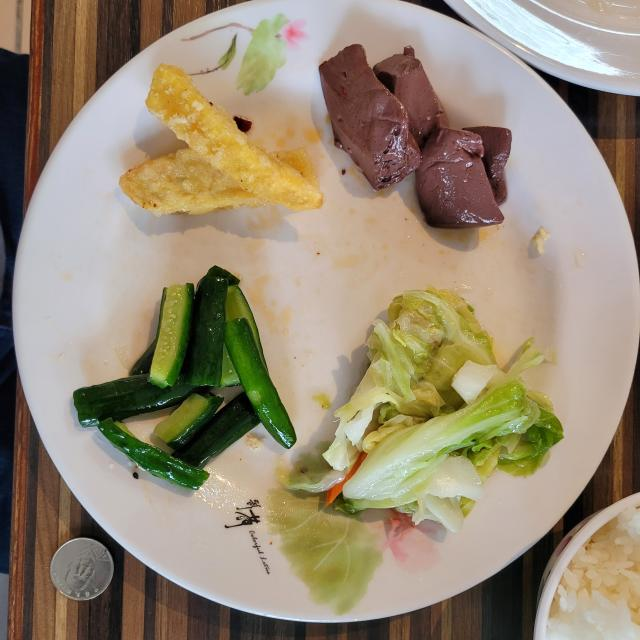cabbage: (288, 288, 562, 532)
coin: (50, 538, 114, 600)
cucumber: (74, 266, 296, 448), (98, 392, 260, 489)
pig blood curd: (319, 45, 511, 228)
